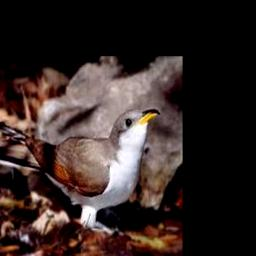Cuckoo: (0, 108, 160, 231)
